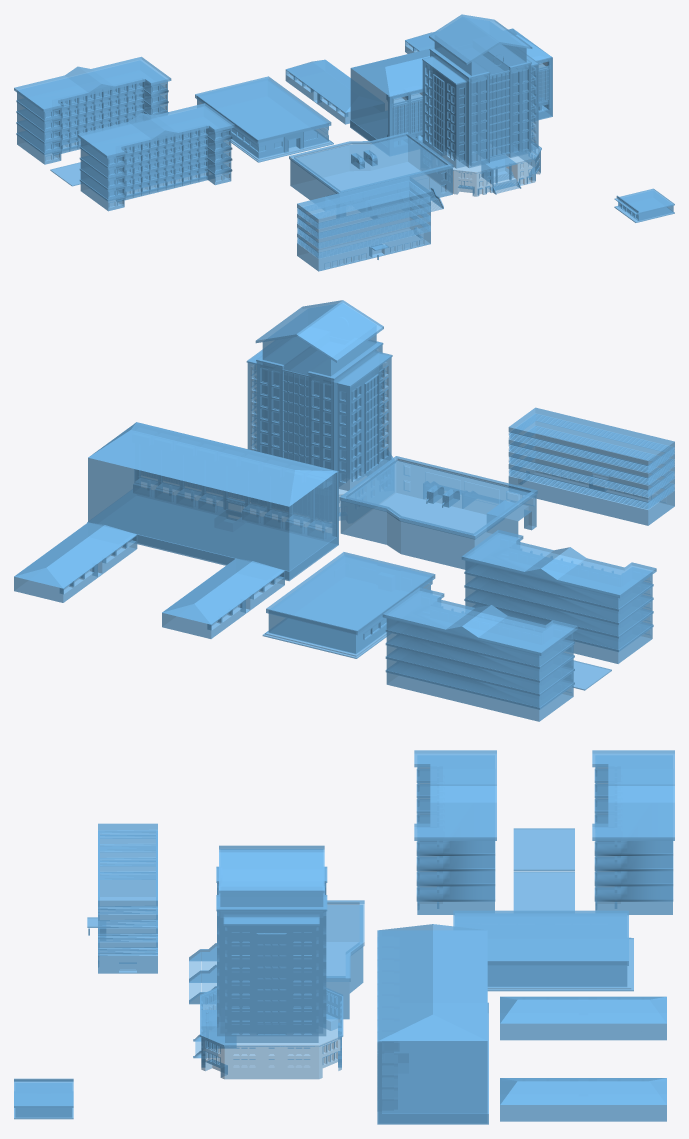
Rendered from ptitdiorama.glb.
The picture shows the model from 3 angles, top to bottom: view 1: azimuth 30°, elevation 25°; view 2: azimuth 150°, elevation 25°; view 3: azimuth 270°, elevation 25°; orthographic projection. The views are drawn at different scales.
Visible parts, largest first — view 1: Ptitdiorama; view 2: Ptitdiorama; view 3: Ptitdiorama.
Boxes of the visible parts, x1,y1,x2,y2 form: Ptitdiorama: (14, 14, 674, 271); Ptitdiorama: (14, 300, 674, 721); Ptitdiorama: (14, 750, 674, 1124).
Bounding box in the file's own units: 2.5 × 0.7906 × 2.36.
